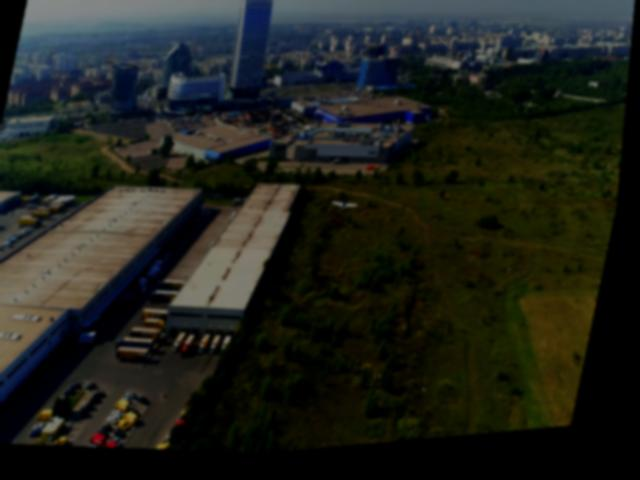plane: (333, 205, 364, 224)
